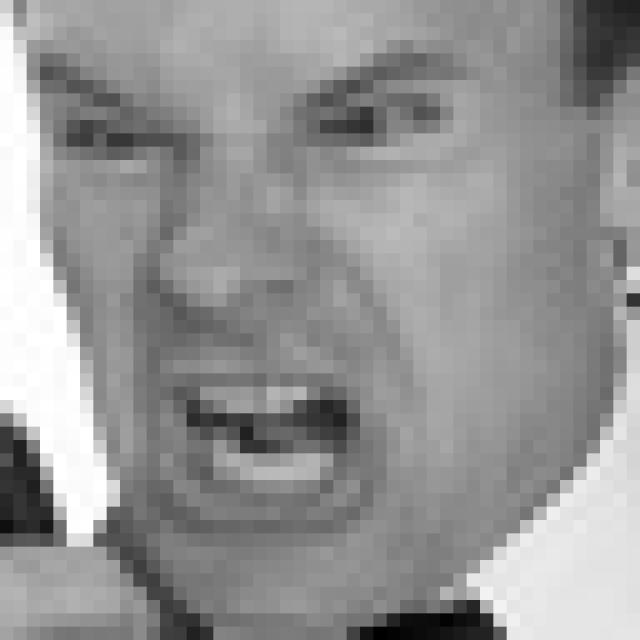angry: (29, 42, 496, 532)
